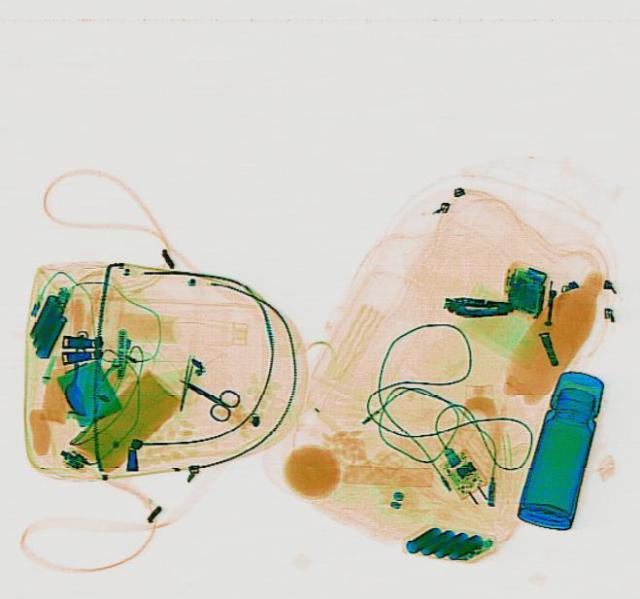Scissors: (168, 366, 242, 423)
